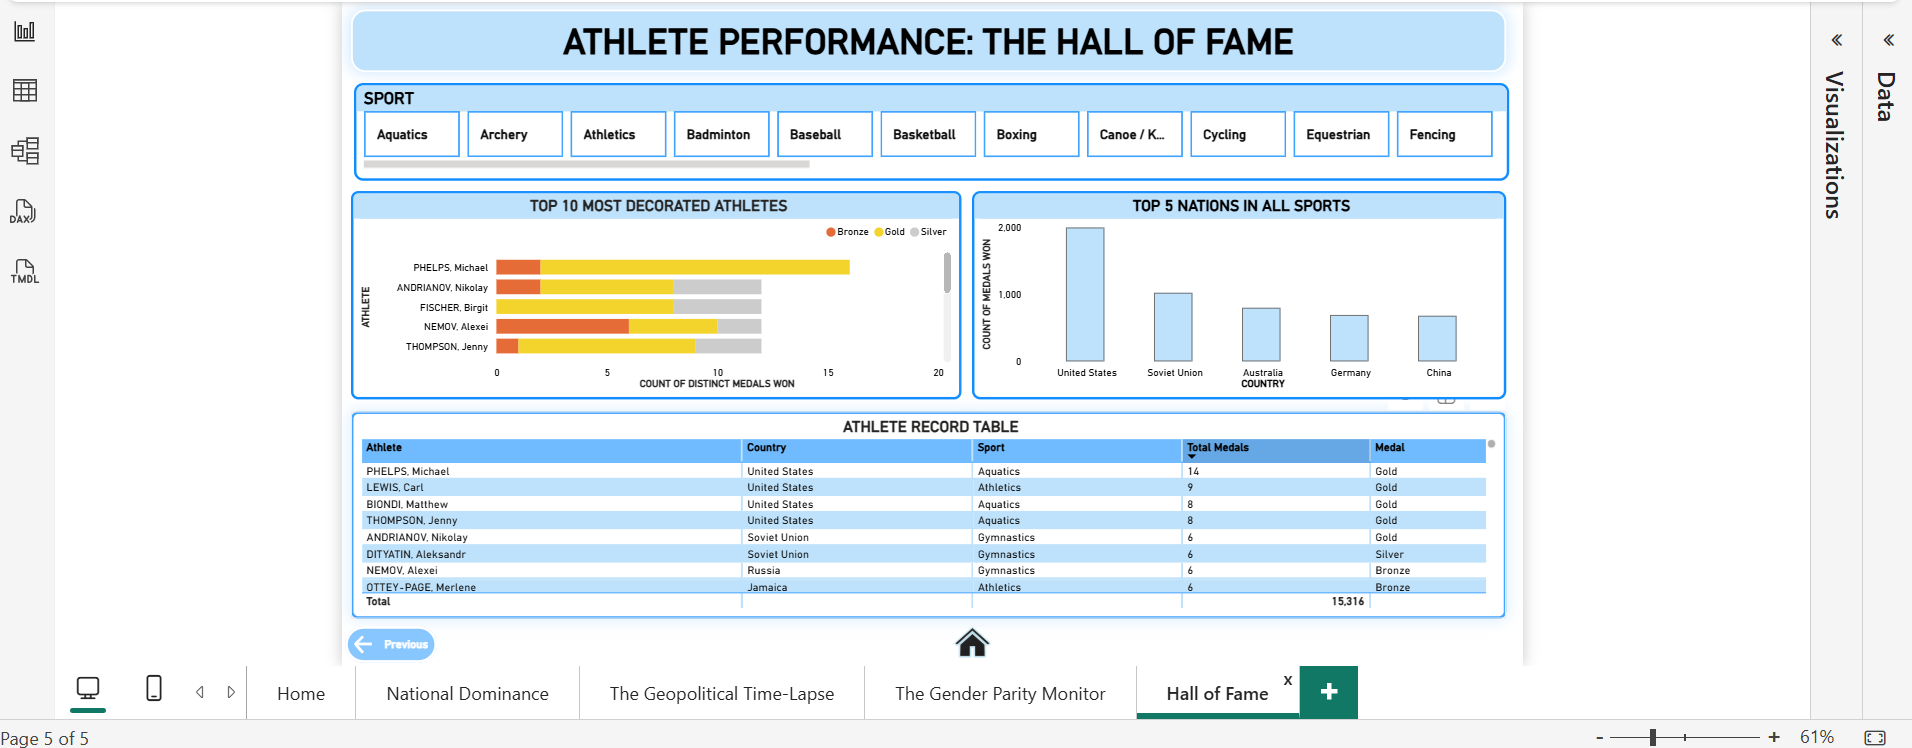

Layout of this report page (visuals, bound fields, positions):
{"tool":"powerbi","page":{"name":"Hall of Fame","canvas":[1280,720],"ordinal":4},"visuals":[{"type":"textbox","box":[9.8,8.1,1252.4,68.3],"z":0},{"type":"tableEx","title":"ATHLETE RECORD TABLE","fields":{"Values":["Medals.Athlete","Medals.Country","Medals.Sport","Medals.Total Medals","Medals.Medal"]},"box":[9.8,444,1252.4,224.5],"z":1000},{"type":"barChart","title":"TOP 10 MOST DECORATED ATHLETES","fields":{"Y":["Medals.Total Medals"],"Category":["Medals.Athlete"],"Series":["Medals.Medal"]},"box":[9.8,204.9,662,226.1],"z":2000},{"type":"clusteredColumnChart","fields":{"Category":["Medals.Country"],"Y":["CountNonNull(Medals.Medal)"]},"box":[683.1,204.9,579,226.1],"z":3000},{"type":"advancedSlicerVisual","title":"SPORT","fields":{"Values":["Medals.Sport"]},"box":[13,88.2,1252.4,105.7],"z":4000},{"type":"actionButton","box":[3.3,676.7,100,40],"z":5000},{"type":"image","box":[661.7,673.3,43.3,41.7],"z":6000}]}

Visuals, with their boxes on the page's 1280x720 design canvas (x1, y1, x2, y2). These are canvas units, not pixel positions in the 1912x748 screenshot, which may show the page scaled, cropped or inside an application window:
textbox: <region>10, 8, 1262, 76</region>
"ATHLETE RECORD TABLE" tableEx: <region>10, 444, 1262, 668</region>
"TOP 10 MOST DECORATED ATHLETES" barChart: <region>10, 205, 672, 431</region>
clusteredColumnChart - Medals.Country x CountNonNull(Medals.Medal): <region>683, 205, 1262, 431</region>
"SPORT" advancedSlicerVisual: <region>13, 88, 1265, 194</region>
actionButton: <region>3, 677, 103, 717</region>
image: <region>662, 673, 705, 715</region>
